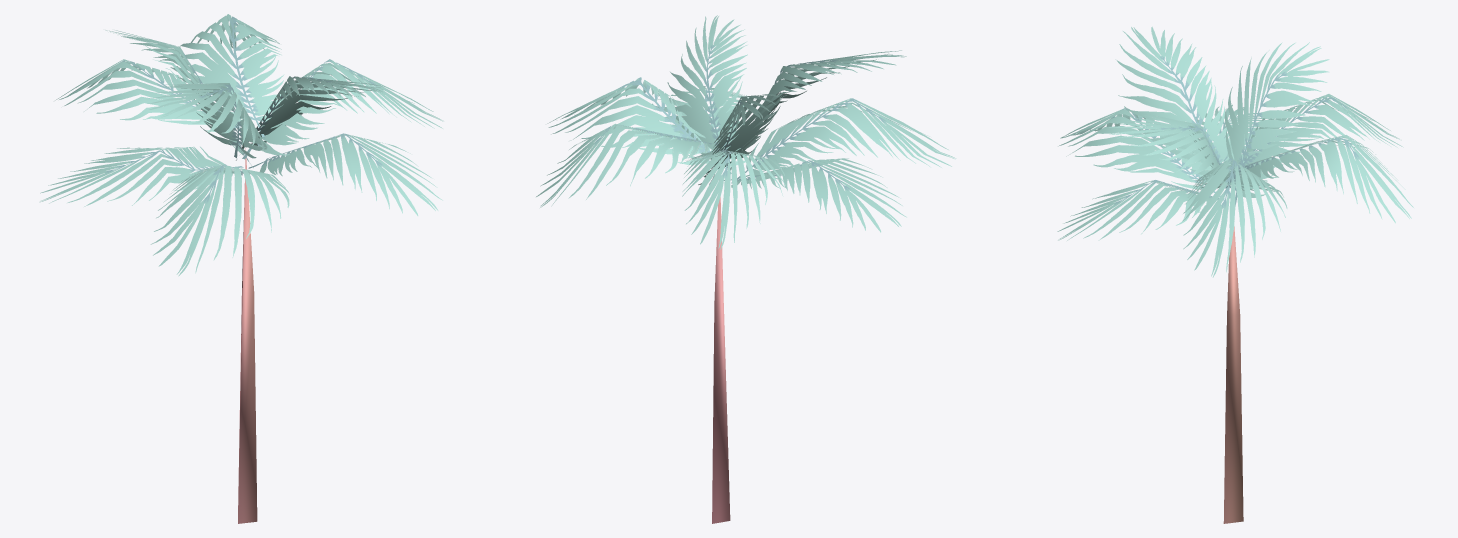
Rendered from palmV1.4LOD1.fbx.
3 views of the same model, side by side, from view 1: azimuth 30°, elevation 25°; view 2: azimuth 150°, elevation 25°; view 3: azimuth 270°, elevation 25° (orthographic). The views are drawn at different scales.
Parts seen in each view (by area): view 1: leaf2.037; view 2: leaf2.037; view 3: leaf2.037.
Boxes of the visible parts, x1,y1,x2,y2 form: leaf2.037: [39, 14, 443, 523]; leaf2.037: [536, 15, 956, 523]; leaf2.037: [1057, 26, 1413, 523].
Size of the model in its own units: 597 by 715 by 627.
